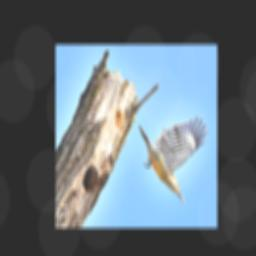Woodpecker: (138, 114, 209, 205)
